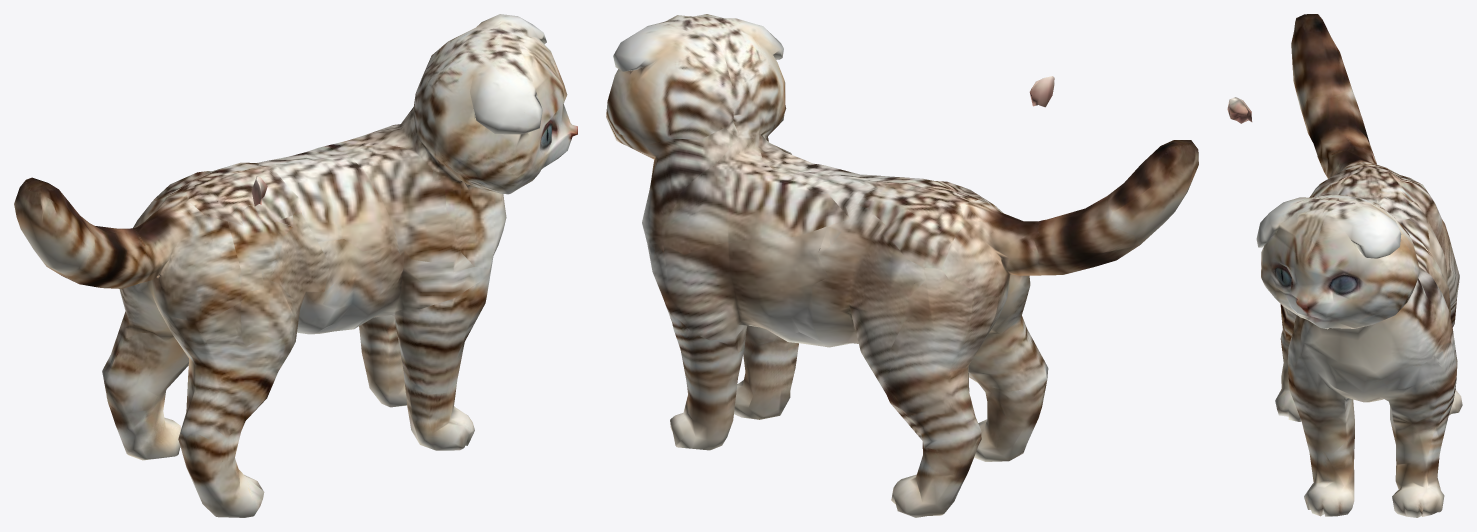
File: OLIVIACAT-lo.glb
3 views of the same model, side by side, from view 1: azimuth 30°, elevation 25°; view 2: azimuth 150°, elevation 25°; view 3: azimuth 270°, elevation 25° (orthographic). The views are drawn at different scales.
Visible parts, largest first — view 1: fit; view 2: fit; view 3: fit.
Boxes of the visible parts, x1,y1,x2,y2 form: fit: (14,14,577,517); fit: (606,14,1198,517); fit: (1227,14,1462,517).
Bounding box in the file's own units: 1.5 × 0.9969 × 0.6369.
1 material, 1 textured.
